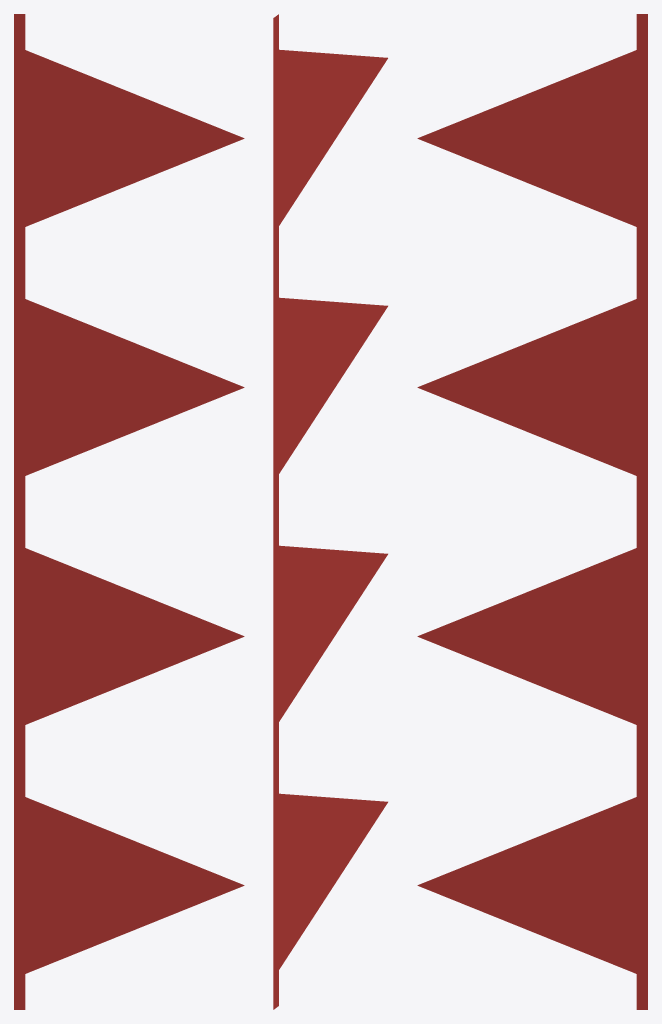
Rendered from Flags.fbx.
The picture shows the model from 3 angles, left to right: view 1: azimuth 90°, elevation 25°; view 2: azimuth 150°, elevation 25°; view 3: azimuth 270°, elevation 25°; orthographic projection.
Parts seen in each view (by area): view 1: Flags; view 2: Flags; view 3: Flags.
Part boxes in pixels (box(x1,y1,x2,y2)): Flags: box(14, 14, 244, 1009); Flags: box(273, 14, 387, 1009); Flags: box(417, 14, 647, 1009).
Bounding box in the file's own units: 1.98e-05 × 100 × 21.02.
